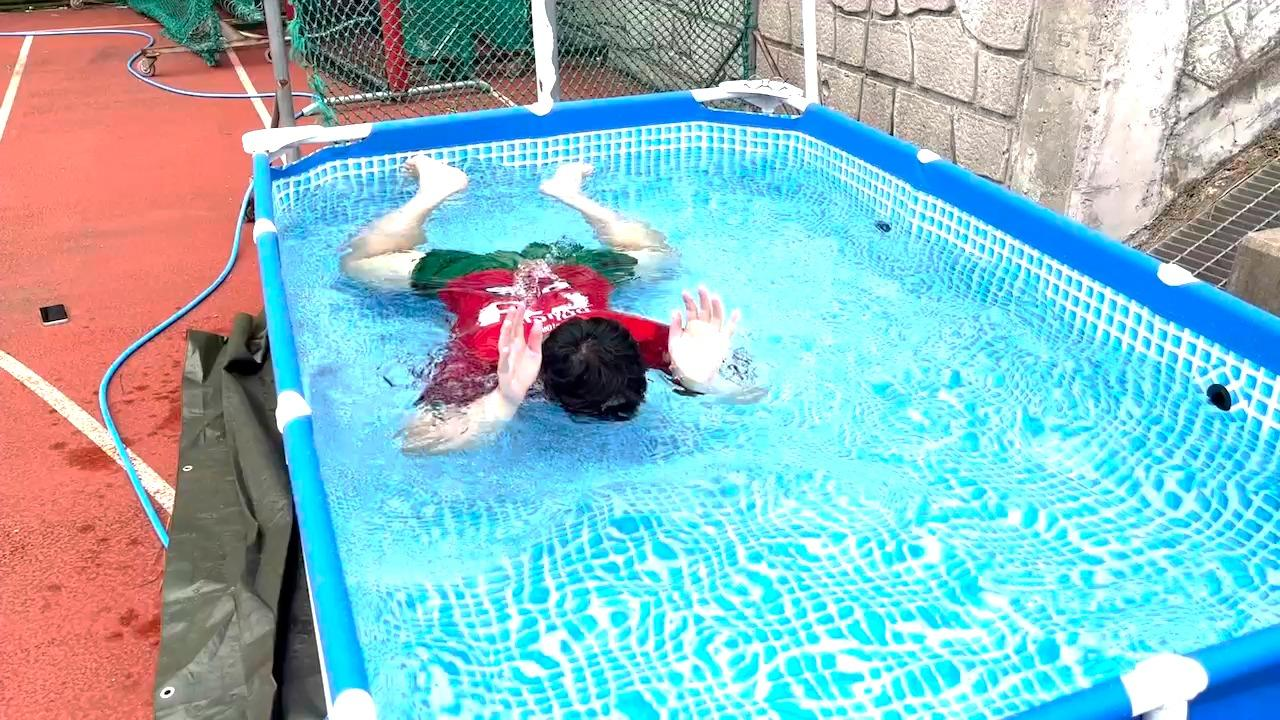Drowning: (317, 97, 802, 451)
